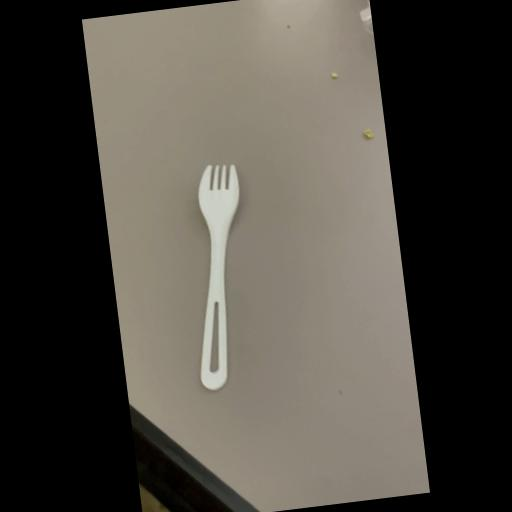utensil: (174, 155, 266, 398)
